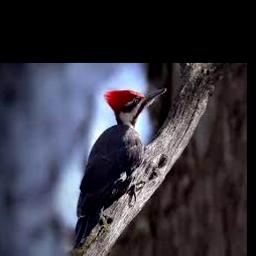Woodpecker: (74, 88, 166, 247)
